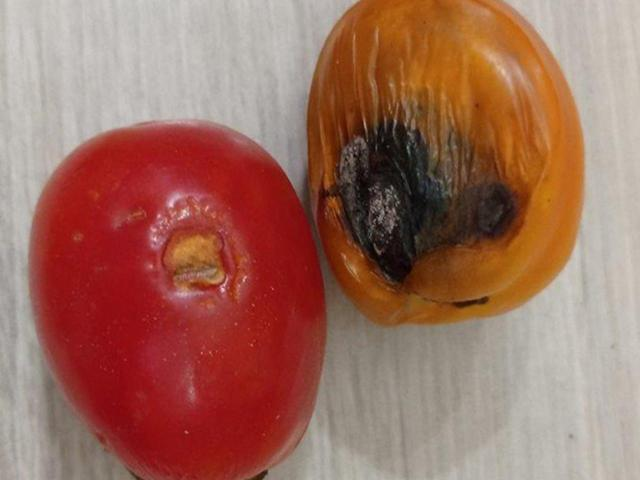defect: (304, 0, 585, 333), (126, 183, 258, 324)
